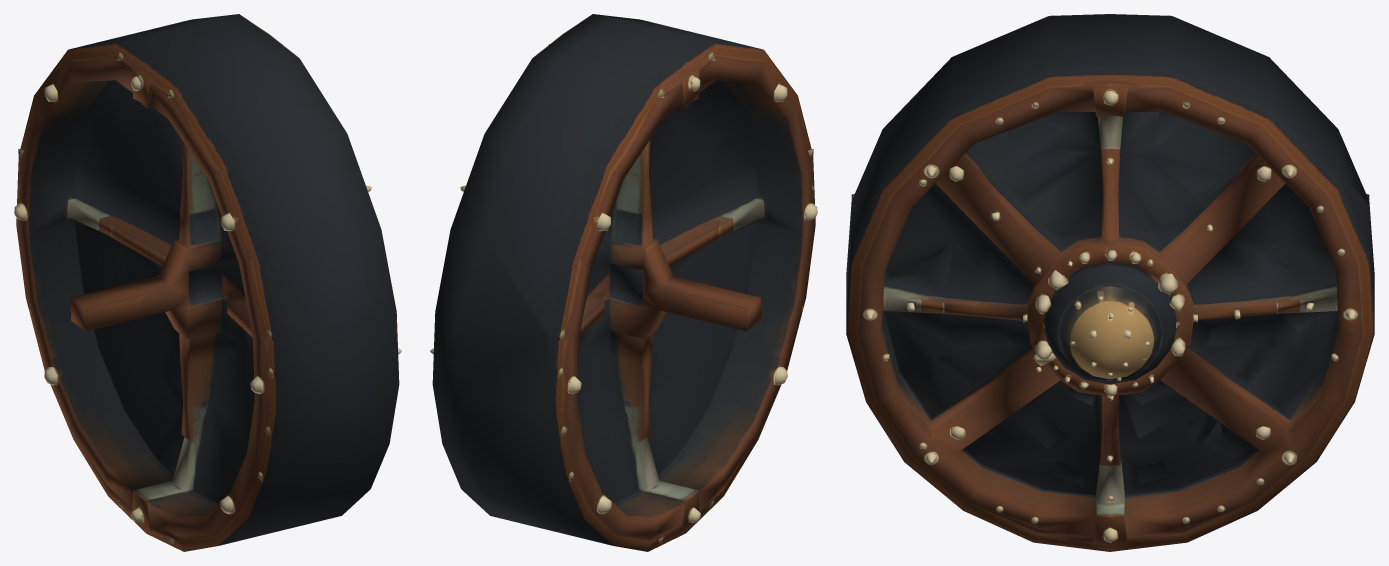
Rendered from banded_kite.glb.
The picture shows the model from 3 angles, left to right: view 1: azimuth 30°, elevation 25°; view 2: azimuth 150°, elevation 25°; view 3: azimuth 270°, elevation 25°; orthographic projection.
Parts seen in each view (by area): view 1: base_model_path; view 2: base_model_path; view 3: base_model_path.
Part boxes in pixels (left/top/right/bottom): base_model_path: left=14, top=14, right=401, bottom=551; base_model_path: left=430, top=14, right=817, bottom=551; base_model_path: left=846, top=14, right=1374, bottom=551.
Size of the model in its own units: 0.6205 by 0.9963 by 1.
Materials: 1 (1 with a texture image).
